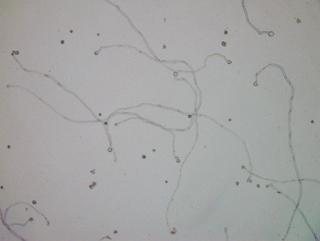germinated: (169, 151, 181, 165), (92, 45, 107, 55), (258, 28, 274, 37), (166, 223, 178, 235), (221, 54, 234, 65), (253, 73, 261, 88), (173, 71, 184, 81), (11, 49, 20, 61), (22, 217, 34, 225), (106, 141, 113, 152)
nongerminated: (58, 37, 68, 46), (139, 151, 148, 161), (109, 227, 120, 235), (219, 39, 228, 48), (222, 28, 231, 37), (294, 15, 303, 24), (232, 178, 241, 187), (5, 141, 14, 150), (150, 145, 158, 155), (67, 26, 75, 35), (30, 199, 39, 207), (307, 118, 317, 125), (91, 180, 100, 187), (253, 182, 261, 189), (162, 178, 170, 185), (90, 168, 99, 174), (96, 111, 103, 118), (85, 184, 94, 189), (186, 113, 193, 119), (103, 120, 109, 126)
